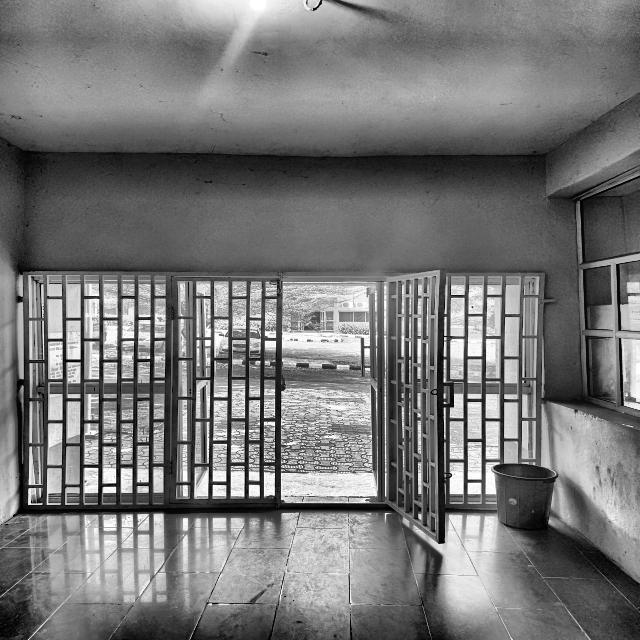door: (19, 270, 487, 542)
wastebin: (493, 463, 574, 538)
